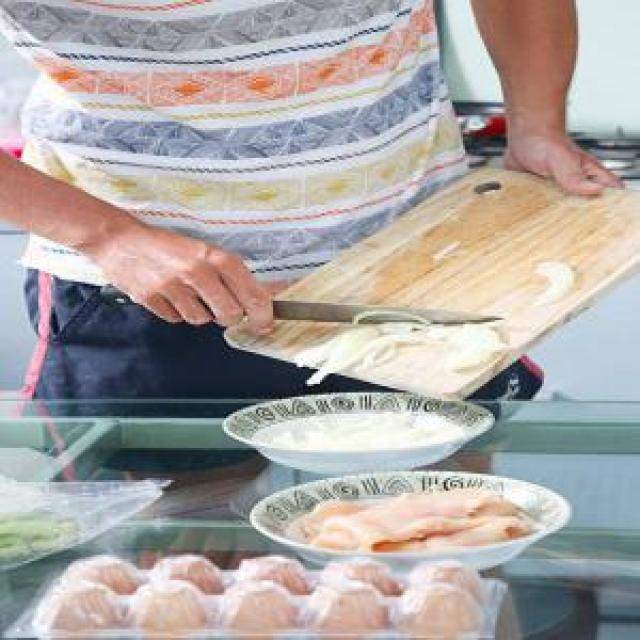knife: (139, 298, 526, 330)
